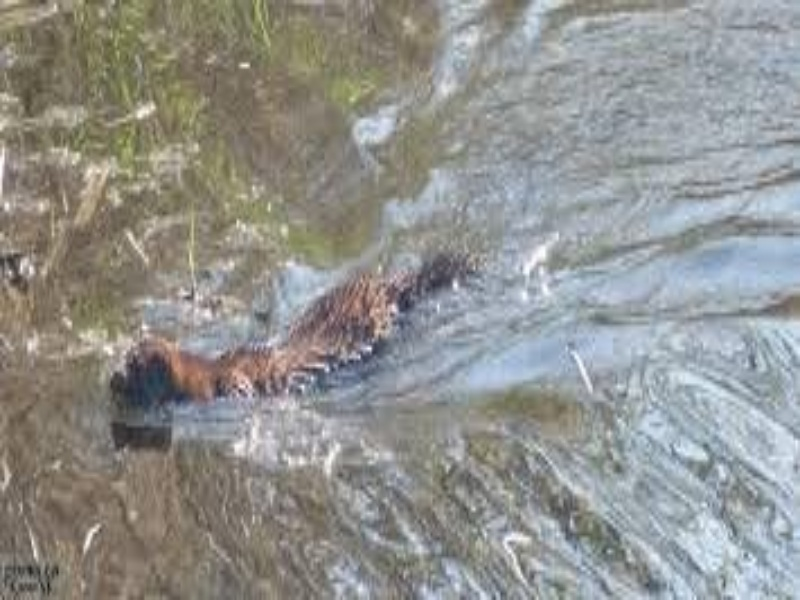minkish: (114, 249, 477, 413)
